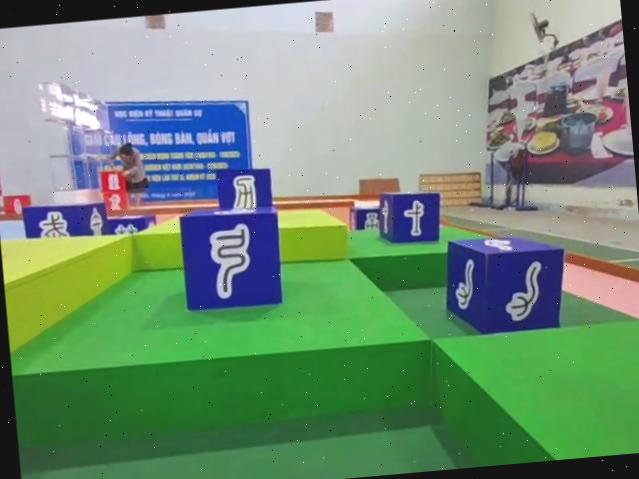R2 Fake Blue: (176, 206, 286, 317), (22, 199, 109, 242), (211, 164, 270, 213)
R2 Real Blue: (440, 229, 570, 338), (378, 188, 445, 247), (104, 213, 157, 236), (345, 203, 381, 231)
